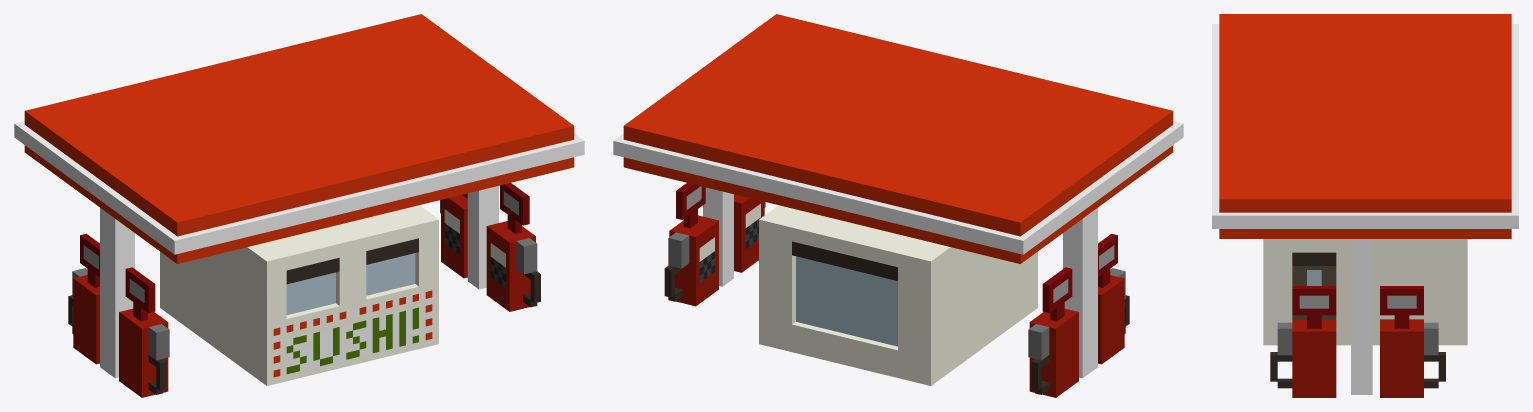
The model's file is sushi1.obj.
3 views of the same model, side by side, from view 1: azimuth 30°, elevation 25°; view 2: azimuth 150°, elevation 25°; view 3: azimuth 270°, elevation 25° (orthographic). The views are drawn at different scales.
Visible parts, largest first — view 1: sushi1; view 2: sushi1; view 3: sushi1.
Part boxes in pixels (left/top/right/bottom): sushi1: left=14, top=14, right=584, bottom=397; sushi1: left=613, top=14, right=1183, bottom=397; sushi1: left=1212, top=14, right=1518, bottom=397.
Bounding box in the file's own units: 62 × 30 × 42.
1 material, 1 textured.
